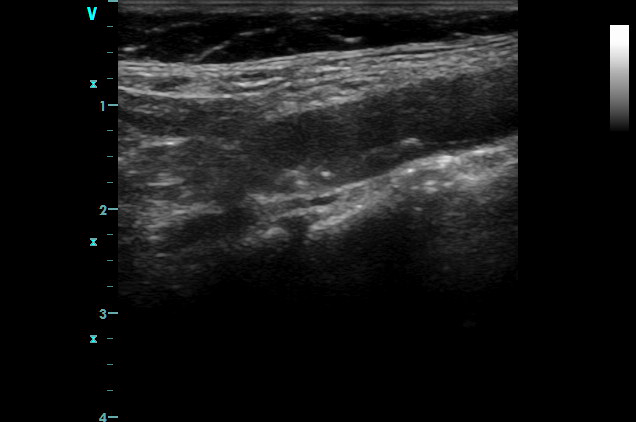Fibrous Tissue: (268, 171, 346, 210)
Lipid Core: (139, 243, 211, 264), (367, 193, 407, 227), (495, 140, 522, 174)
